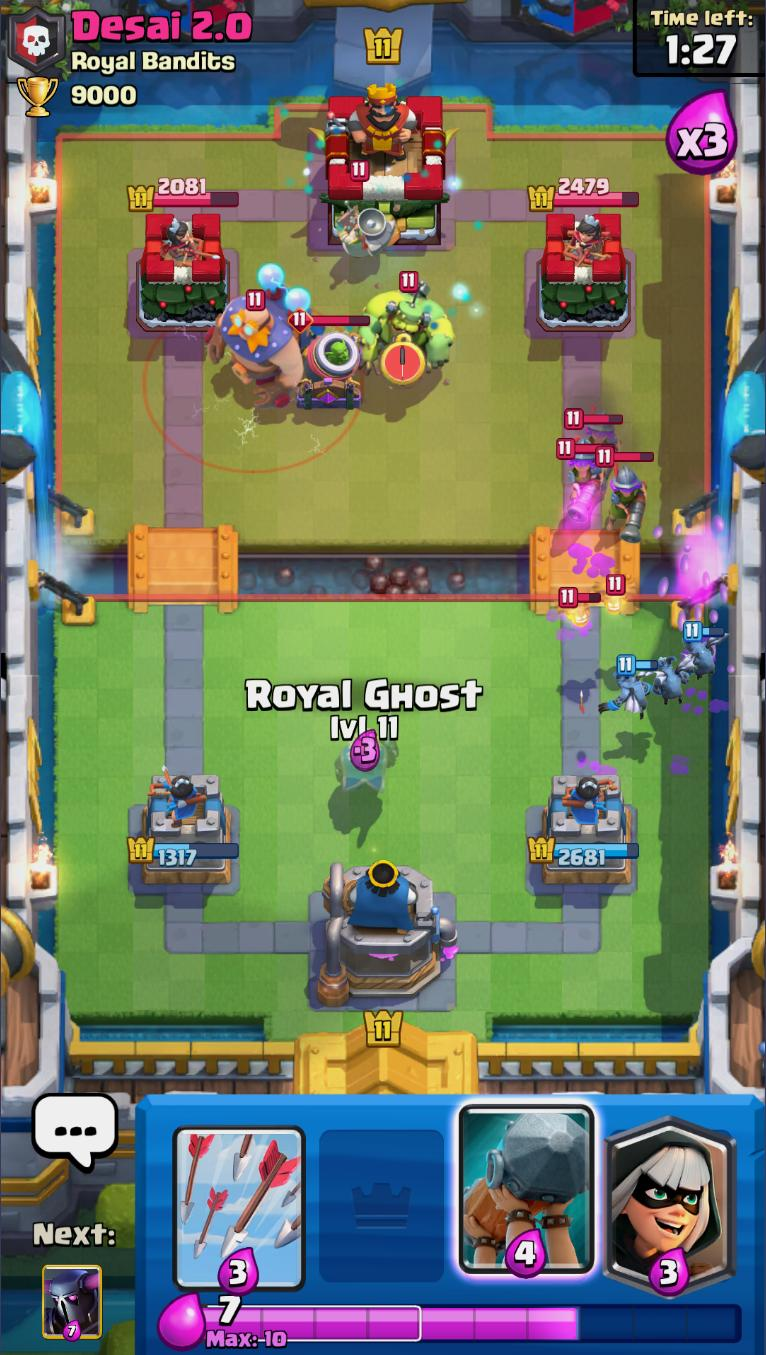ArrowDeck: (167, 1095, 310, 1296)
BanditDeck: (599, 1094, 744, 1296)
BattleRamDeck: (456, 1094, 598, 1295)
ElectroGiant: (204, 262, 323, 411)
Elixir: (203, 1295, 744, 1350)
Empty: (311, 1095, 455, 1296)
EnemyTower: (533, 208, 631, 331), (133, 210, 229, 335)
EvoMortar: (288, 310, 373, 412)
Goblinstein: (355, 272, 453, 378)
GoblinsteinScientist: (340, 162, 396, 256)
KingTower: (308, 82, 456, 248)
LavaHoundMini: (594, 570, 638, 616), (555, 588, 602, 631)
Musketeer: (595, 449, 654, 544), (555, 438, 615, 528), (564, 405, 624, 458)
MyKingTower: (319, 856, 458, 1009)
MyMinion: (597, 653, 659, 719), (681, 623, 728, 680), (648, 654, 695, 709)
MyPrincessTower: (524, 771, 639, 887), (125, 769, 238, 887)
MyPrincessTowerHP: (125, 836, 238, 868), (525, 835, 637, 867)
PekkaNext: (41, 1264, 106, 1344)
PrincessTower: (555, 213, 612, 264), (148, 214, 204, 264)
TowerPrincessHP: (126, 178, 239, 213), (526, 178, 639, 212)
